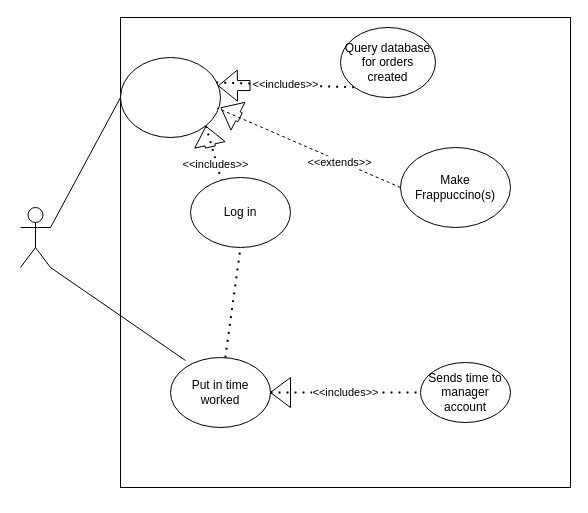
The diagram is 588 pixels wide and 513 high, and some of its shapes have lost their labels. The shapes that lost their labels are listed below. From the top down, each one's centre as x and y in pixels, then its label:
point (170, 97): Search for orders
point (35, 237): Barista
